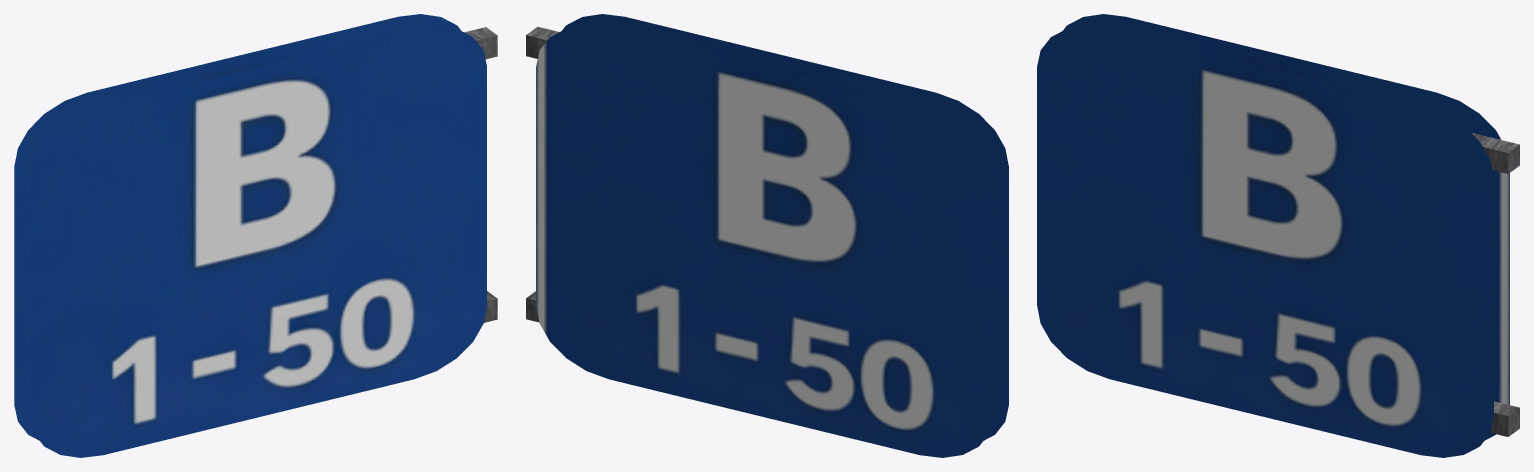
The model's file is skilt B 1-50.fbx.
The picture shows the model from 3 angles, left to right: view 1: azimuth 30°, elevation 25°; view 2: azimuth 150°, elevation 25°; view 3: azimuth 330°, elevation 25°; orthographic projection.
Parts seen in each view (by area): view 1: Cube; view 2: Cube; view 3: Cube.
Part boxes in pixels (left/top/right/bottom): Cube: left=14, top=14, right=497, bottom=457; Cube: left=526, top=14, right=1008, bottom=457; Cube: left=1037, top=14, right=1519, bottom=457.
Size of the model in its own units: 0.9334 by 0.667 by 0.055.
Materials: 2 (2 with a texture image).
